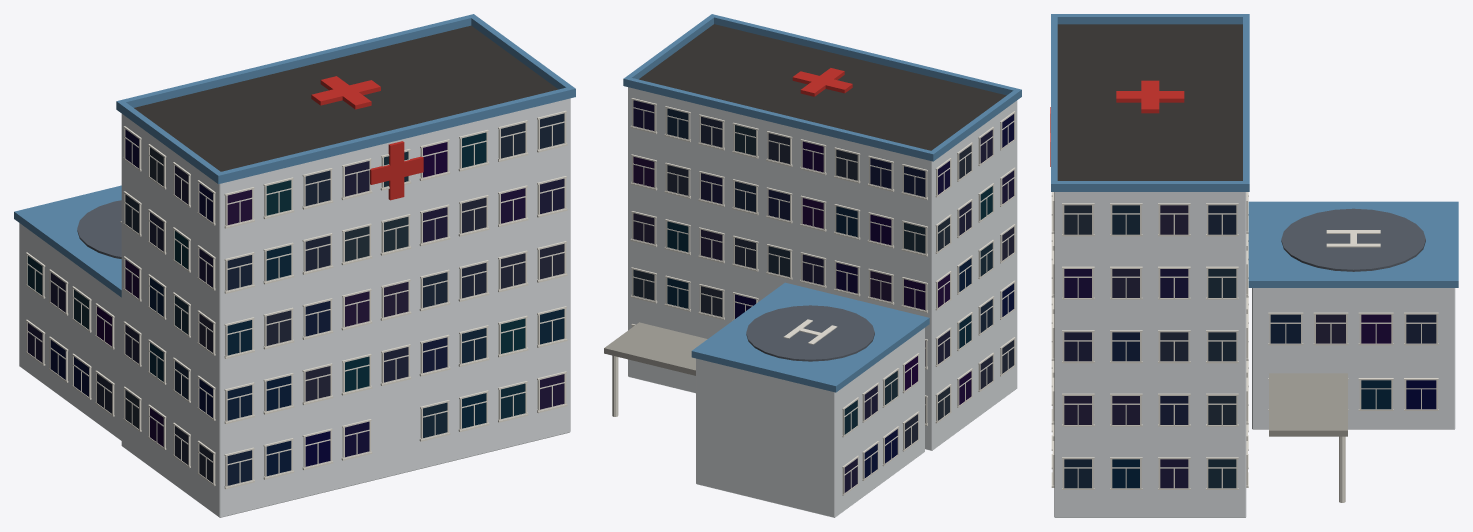
File: hospital.glb
3 views of the same model, side by side, from view 1: azimuth 30°, elevation 25°; view 2: azimuth 150°, elevation 25°; view 3: azimuth 270°, elevation 25° (orthographic). The views are drawn at different scales.
Visible parts, largest first — view 1: hospital; view 2: hospital; view 3: hospital.
Part boxes in pixels (x1,y1,x2,y2): hospital: (14,14,575,517); hospital: (604,14,1021,517); hospital: (1050,14,1458,517).
Bounding box in the file's own units: 17.8 × 16.6 × 18.07.
